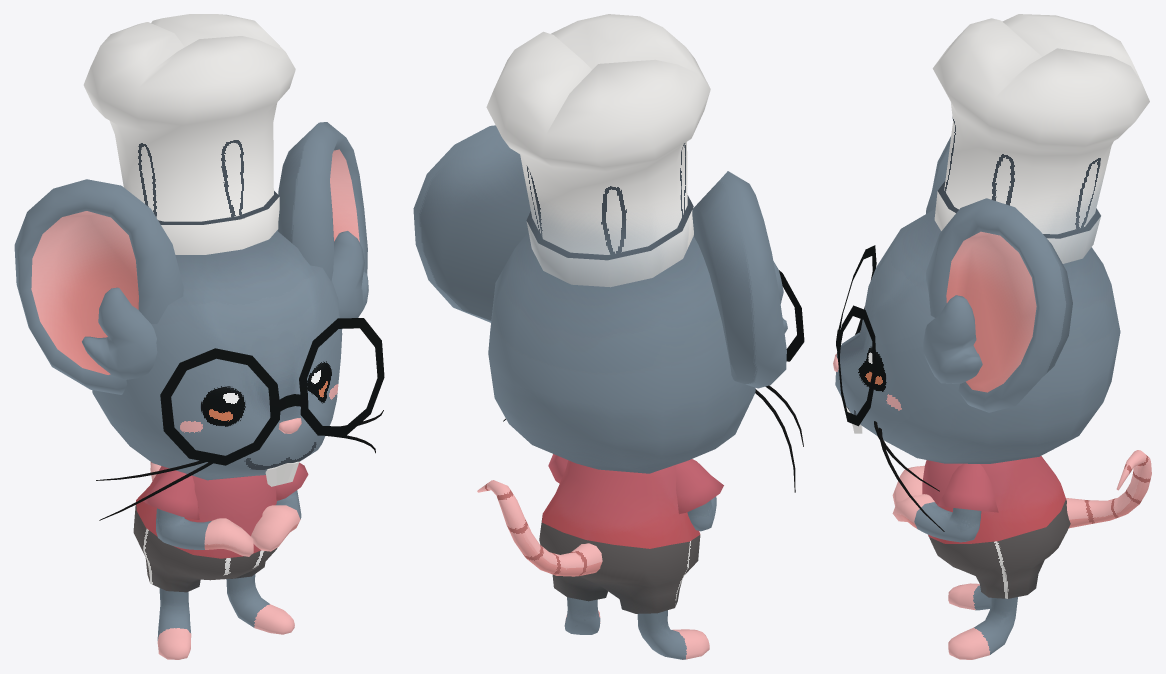
The model's file is Ratzo.glb.
The picture shows the model from 3 angles, left to right: view 1: azimuth 30°, elevation 25°; view 2: azimuth 150°, elevation 25°; view 3: azimuth 270°, elevation 25°; orthographic projection. The views are drawn at different scales.
Parts seen in each view (by area): view 1: Cube.004; view 2: Cube.004; view 3: Cube.004.
Boxes of the visible parts, left/top/right/bottom form: Cube.004: left=14, top=14, right=384, bottom=659; Cube.004: left=413, top=14, right=804, bottom=659; Cube.004: left=833, top=14, right=1151, bottom=659.
Size of the model in its own units: 1.95 by 3.19 by 1.55.
Materials: 1 (1 with a texture image).
